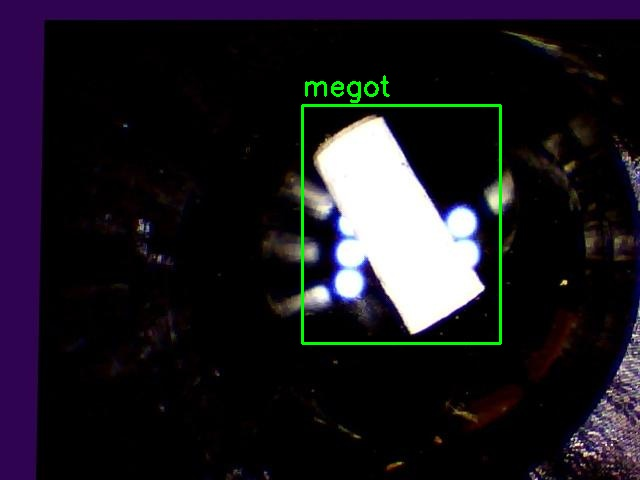megot: (302, 105, 500, 343)
